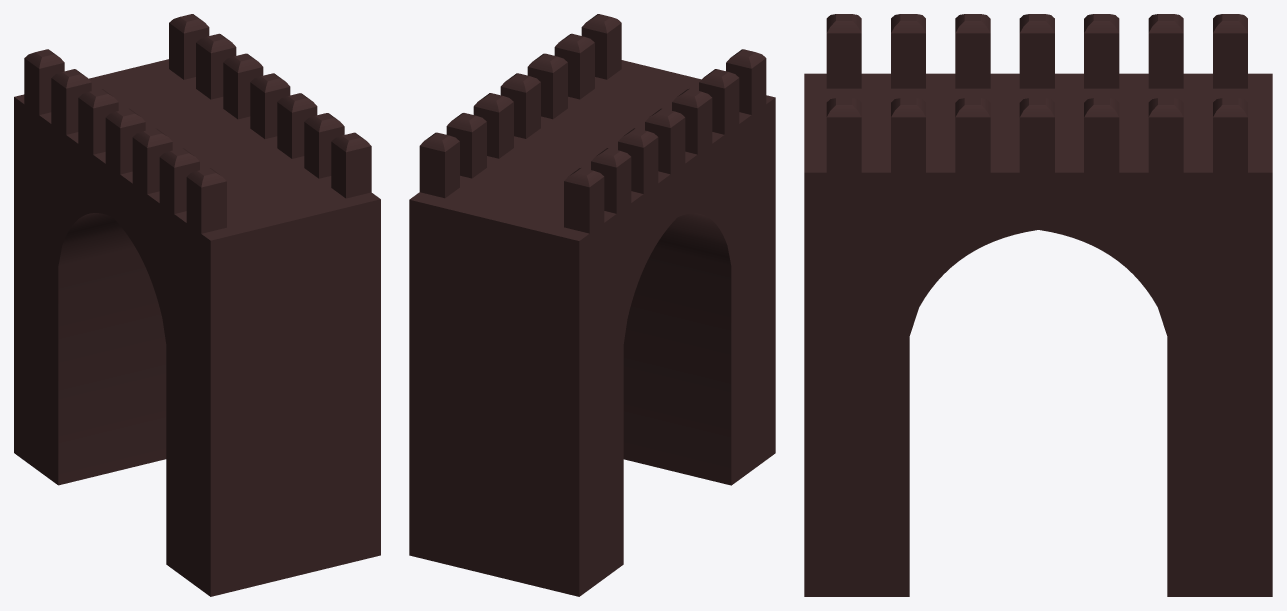
The model's file is Gate.DAE.
3 views of the same model, side by side, from view 1: azimuth 30°, elevation 25°; view 2: azimuth 150°, elevation 25°; view 3: azimuth 270°, elevation 25° (orthographic). The views are drawn at different scales.
Visible parts, largest first — view 1: Box001; view 2: Box001; view 3: Box001.
Part boxes in pixels (<box>): Box001: <box>14,14,380,596</box>; Box001: <box>409,14,775,596</box>; Box001: <box>804,14,1272,596</box>.
Bounding box in the file's own units: 10 × 20 × 23.
